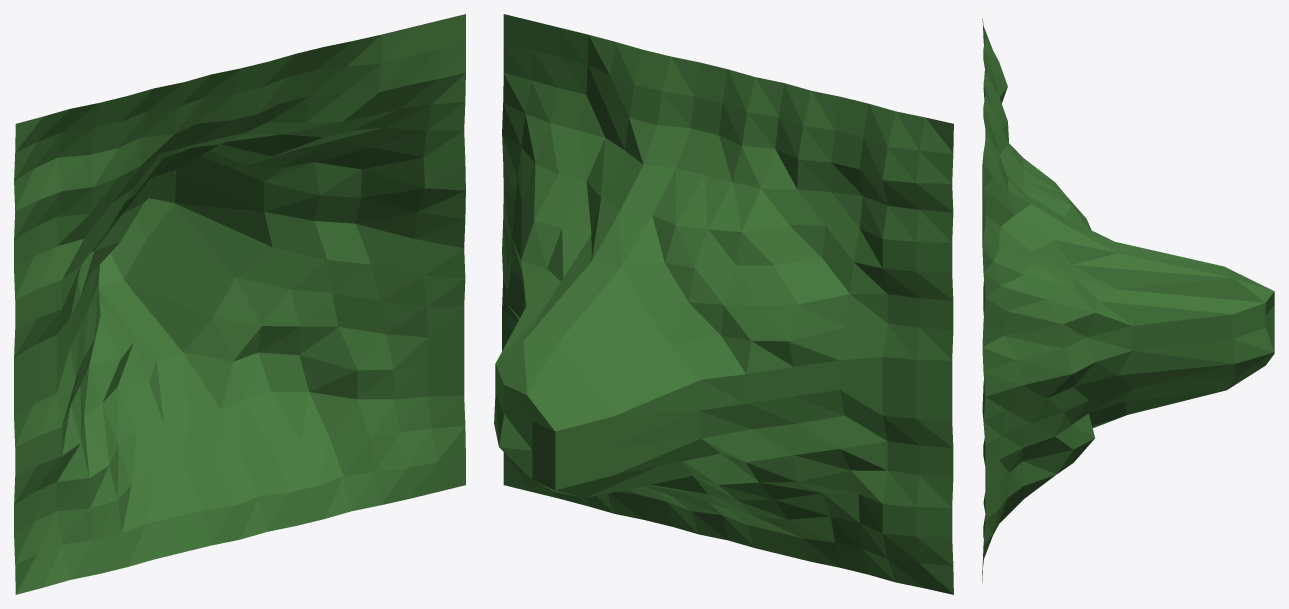
Rendered from ground2.fbx.
3 renders of one model, left to right at view 1: azimuth 30°, elevation 25°; view 2: azimuth 150°, elevation 25°; view 3: azimuth 270°, elevation 25°, orthographic. The views are drawn at different scales.
Parts seen in each view (by area): view 1: Plane; view 2: Plane; view 3: Plane.
Part boxes in pixels (box(x1,y1,x2,y2)): Plane: box(14, 14, 465, 594); Plane: box(494, 14, 953, 594); Plane: box(982, 18, 1274, 582).
Bounding box in the file's own units: 100 × 100 × 66.79.
